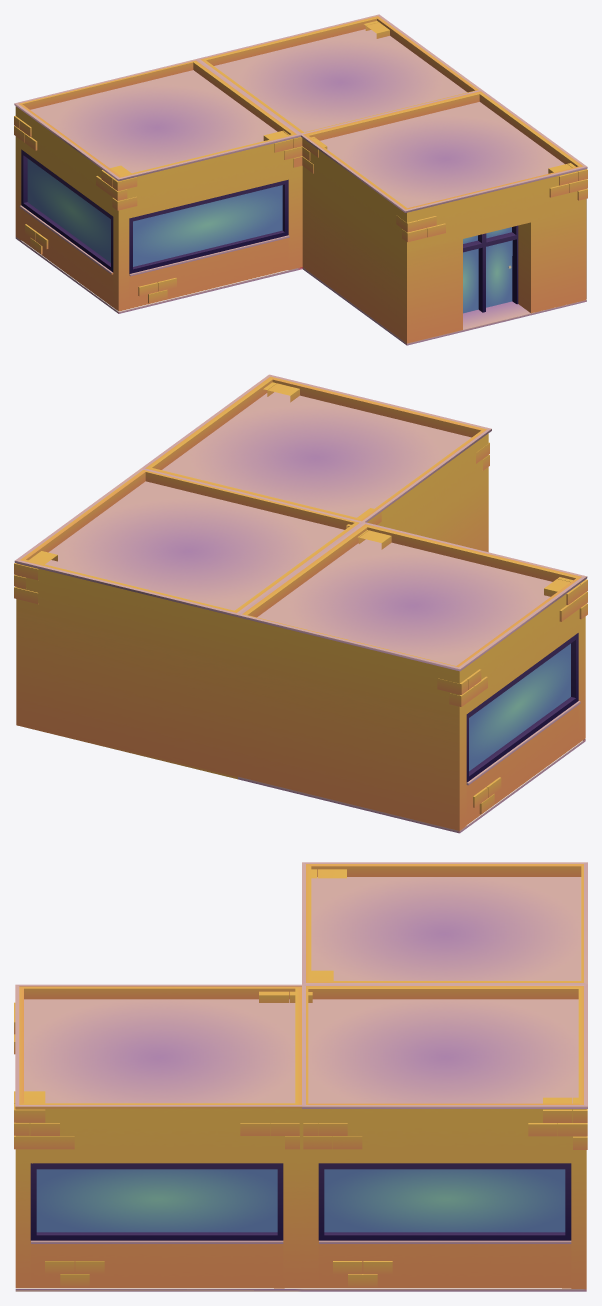
The model's file is SM_PublicBathroom_01.fbx.
3 renders of one model, top to bottom at view 1: azimuth 30°, elevation 25°; view 2: azimuth 150°, elevation 25°; view 3: azimuth 270°, elevation 25°, orthographic. The views are drawn at different scales.
Visible parts, largest first — view 1: SM_PublicBathroom_01; view 2: SM_PublicBathroom_01; view 3: SM_PublicBathroom_01.
Boxes of the visible parts, left/top/right/bottom form: SM_PublicBathroom_01: left=14, top=14, right=587, bottom=345; SM_PublicBathroom_01: left=14, top=374, right=587, bottom=833; SM_PublicBathroom_01: left=14, top=862, right=587, bottom=1291.
Size of the model in its own units: 12.82 by 12.66 by 4.51.
